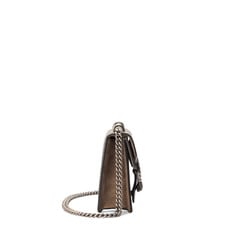Gucci: (96, 127, 149, 221), (133, 146, 149, 198)
